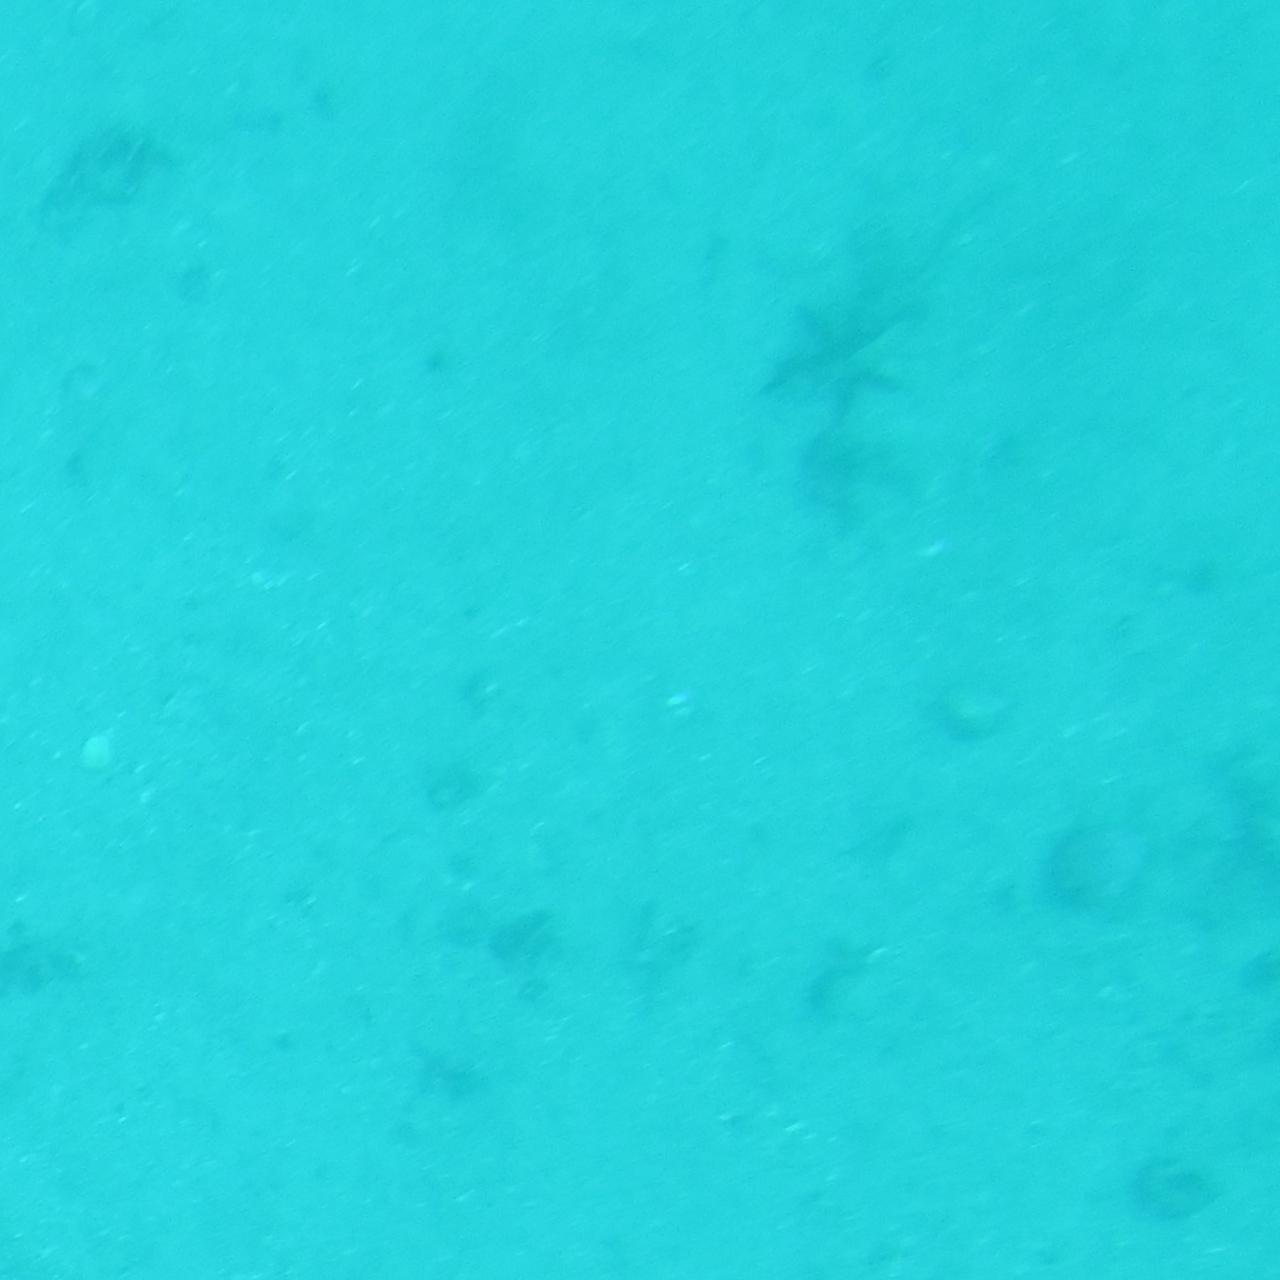Asteroidea: (749, 282, 904, 440)
